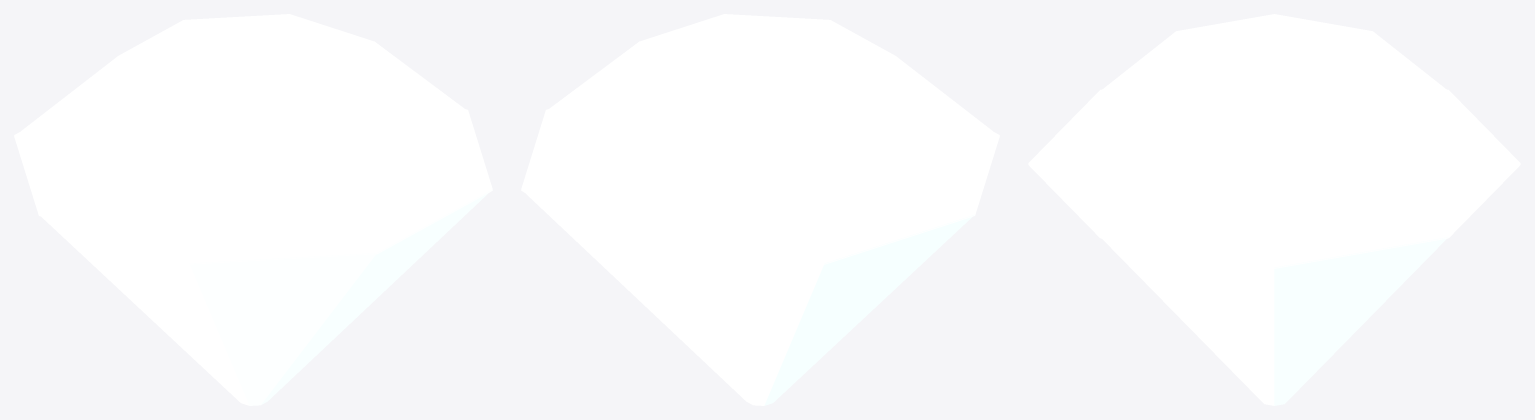
File: CleanDiamond.fbx
3 renders of one model, left to right at view 1: azimuth 30°, elevation 25°; view 2: azimuth 150°, elevation 25°; view 3: azimuth 270°, elevation 25°, orthographic.
Parts seen in each view (by area): view 1: MainMesh; view 2: MainMesh; view 3: MainMesh.
Part boxes in pixels (x1,y1,x2,y2): MainMesh: (14, 14, 492, 405); MainMesh: (521, 14, 999, 405); MainMesh: (1028, 14, 1520, 405).
Bounding box in the file's own units: 1.7 × 1.25 × 1.7.
